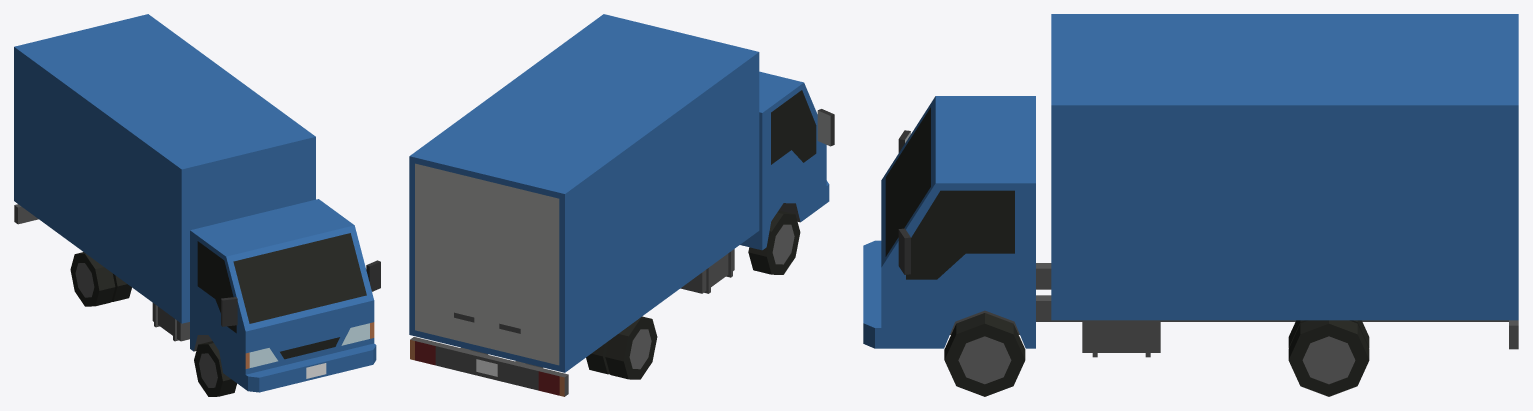
Rendered from Veh_Truck_02_Blue.obj.
3 renders of one model, left to right at view 1: azimuth 30°, elevation 25°; view 2: azimuth 150°, elevation 25°; view 3: azimuth 270°, elevation 25°, orthographic. The views are drawn at different scales.
Size of the model in its own units: 1.27 by 1.61 by 3.26.
